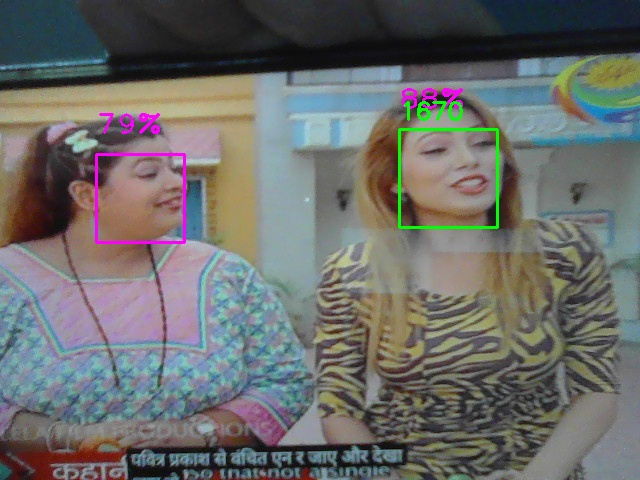fake: (399, 129, 498, 228)
